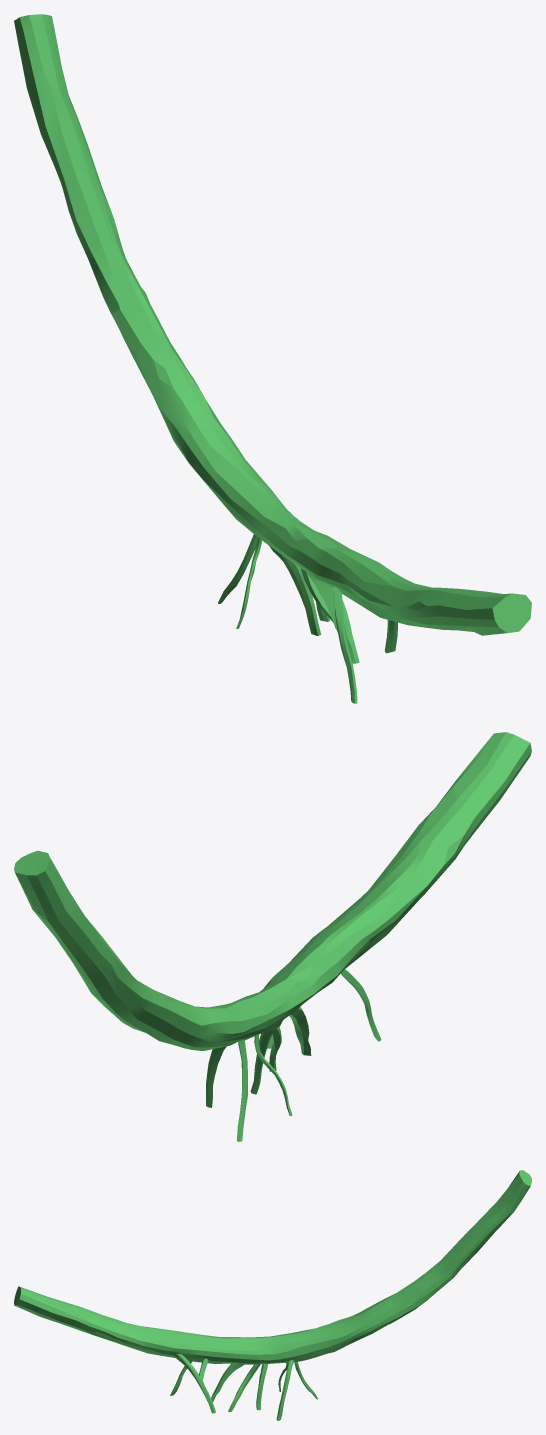
The model's file is jungle_trunk_ground_B_linked.fbx.
The picture shows the model from 3 angles, top to bottom: view 1: azimuth 30°, elevation 25°; view 2: azimuth 150°, elevation 25°; view 3: azimuth 270°, elevation 25°; orthographic projection. The views are drawn at different scales.
Parts seen in each view (by area): view 1: jungle_trunk_ground_B_linked; view 2: jungle_trunk_ground_B_linked; view 3: jungle_trunk_ground_B_linked.
Boxes of the visible parts, x1,y1,x2,y2 form: jungle_trunk_ground_B_linked: (14, 14, 531, 703); jungle_trunk_ground_B_linked: (14, 732, 531, 1141); jungle_trunk_ground_B_linked: (14, 1170, 531, 1420).
Bounding box in the file's own units: 87.75 × 405 × 814.
